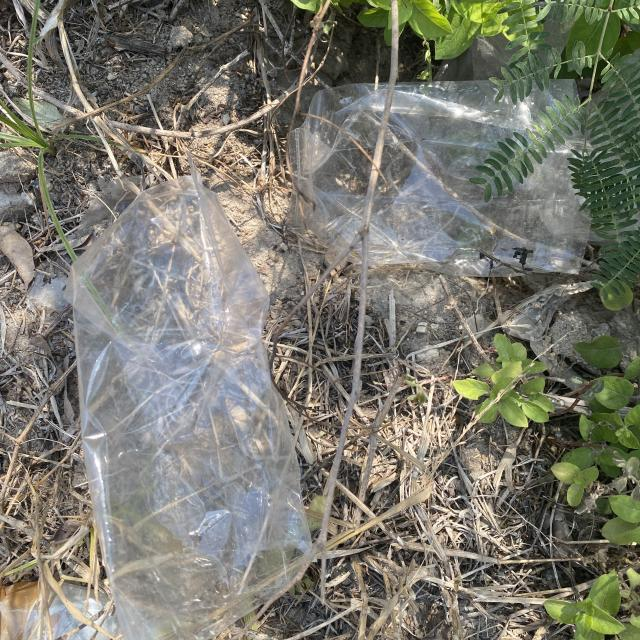Single-layer Plastic: (65, 173, 315, 640), (291, 81, 603, 275)
